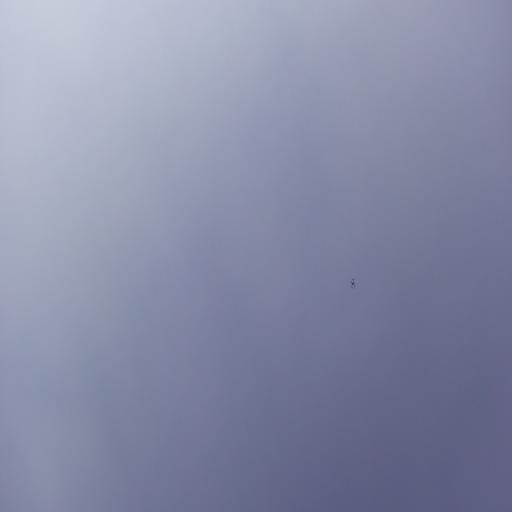drones: (349, 277, 356, 291)
